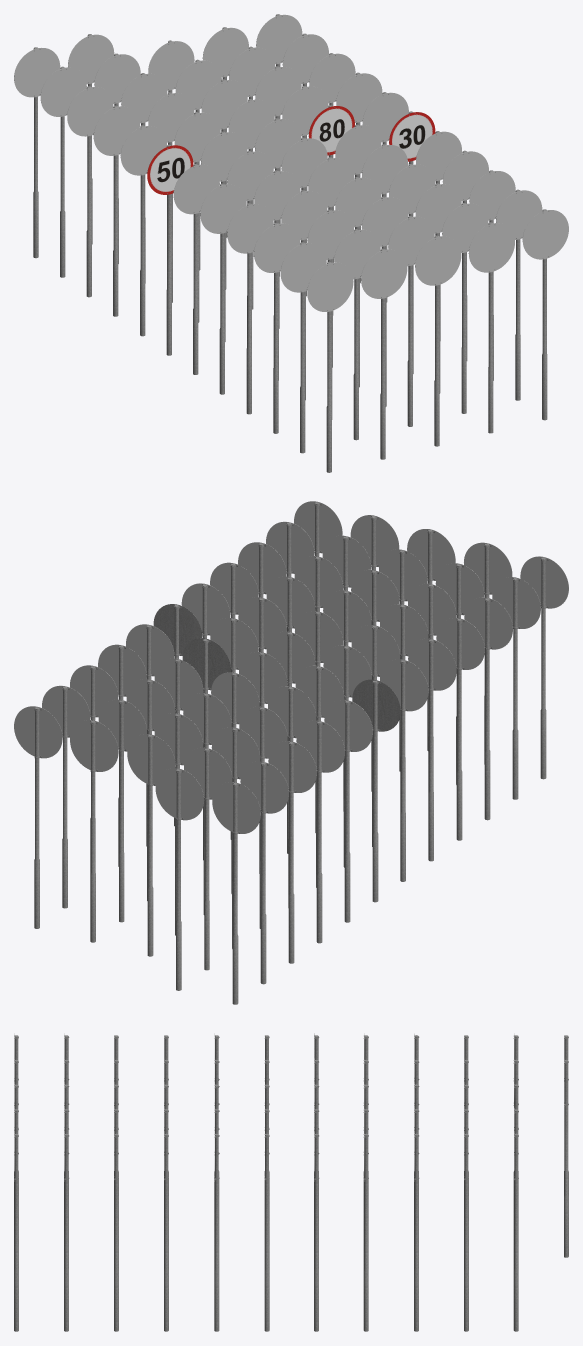
Rendered from traffic signs-01.FBX.
The picture shows the model from 3 angles, top to bottom: view 1: azimuth 30°, elevation 25°; view 2: azimuth 150°, elevation 25°; view 3: azimuth 270°, elevation 25°; orthographic projection. The views are drawn at different scales.
Parts seen in each view (by area): view 1: sign-004, sign-003, sign-002, sign-001, sign-005, sign-021, sign-041, sign-026, sign-006, sign-051, sign-016, sign-056 (+65 smaller); view 2: sign-056, sign-055, sign-057, sign-054, sign-053, sign-001, sign-011, sign-051, sign-016, sign-041, sign-031, sign-036 (+64 smaller); view 3: mast-040, mast-055, mast-045, mast-057, mast-015, mast-035, mast-020, mast-050, mast-010, mast-005, mast-030, mast-025.
Boxes of the visible parts, x1,y1,x2,y2 form: sign-004: (468,223,514,272); sign-003: (415,236,461,285); sign-002: (361,249,407,298); sign-001: (307,262,353,311); sign-005: (522,210,568,259); sign-021: (200,184,246,233); sign-041: (93,106,139,155); sign-026: (173,164,219,214); sign-006: (280,243,326,292); sign-051: (40,67,86,116); sign-016: (227,204,273,253); sign-056: (14,47,60,97); sign-056: (212,782,260,833); sign-055: (14,706,62,758); sign-057: (155,768,203,820); sign-054: (70,720,118,771); sign-053: (127,734,175,785); sign-001: (520,556,568,608); sign-011: (464,597,512,649); sign-051: (240,761,288,813); sign-016: (436,618,484,669); sign-041: (296,720,344,772); sign-031: (352,679,400,731); sign-036: (324,700,372,751); mast-040: (363,1133,368,1331); mast-055: (513,1133,518,1331); mast-045: (414,1133,418,1331); mast-057: (564,1060,568,1257); mast-015: (114,1133,118,1331); mast-035: (314,1133,318,1331); mast-020: (164,1133,168,1331); mast-050: (464,1133,468,1331); mast-010: (64,1134,68,1331); mast-005: (14,1134,18,1331); mast-030: (264,1134,269,1331); mast-025: (214,1134,219,1331).
Bounding box in the file's own units: 340 × 260 × 666.
